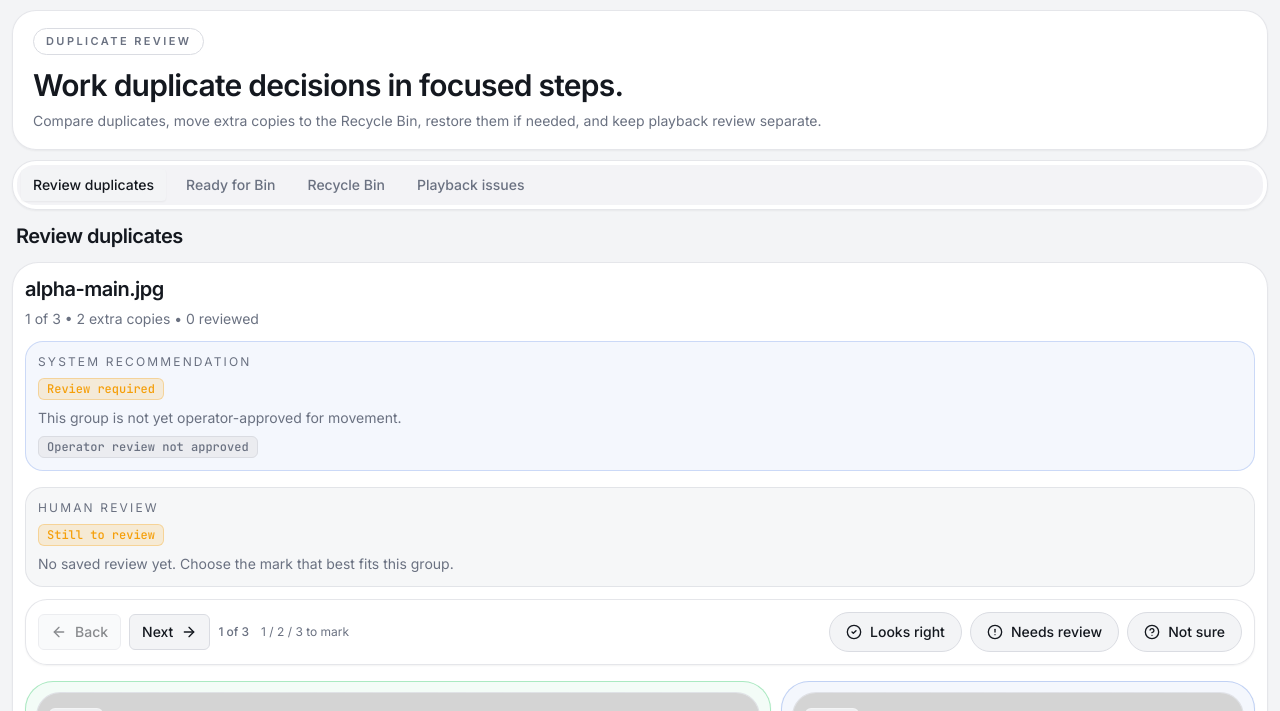
it: DuplicatesPage › marks a group and auto-advances to the next one on the review tab
Expected: the text "alpha-main.jpg" is shown, [25, 276, 164, 300]
Click the button with aria-label "Mark as looks right".
click(895, 632)  # box [829, 612, 962, 652]
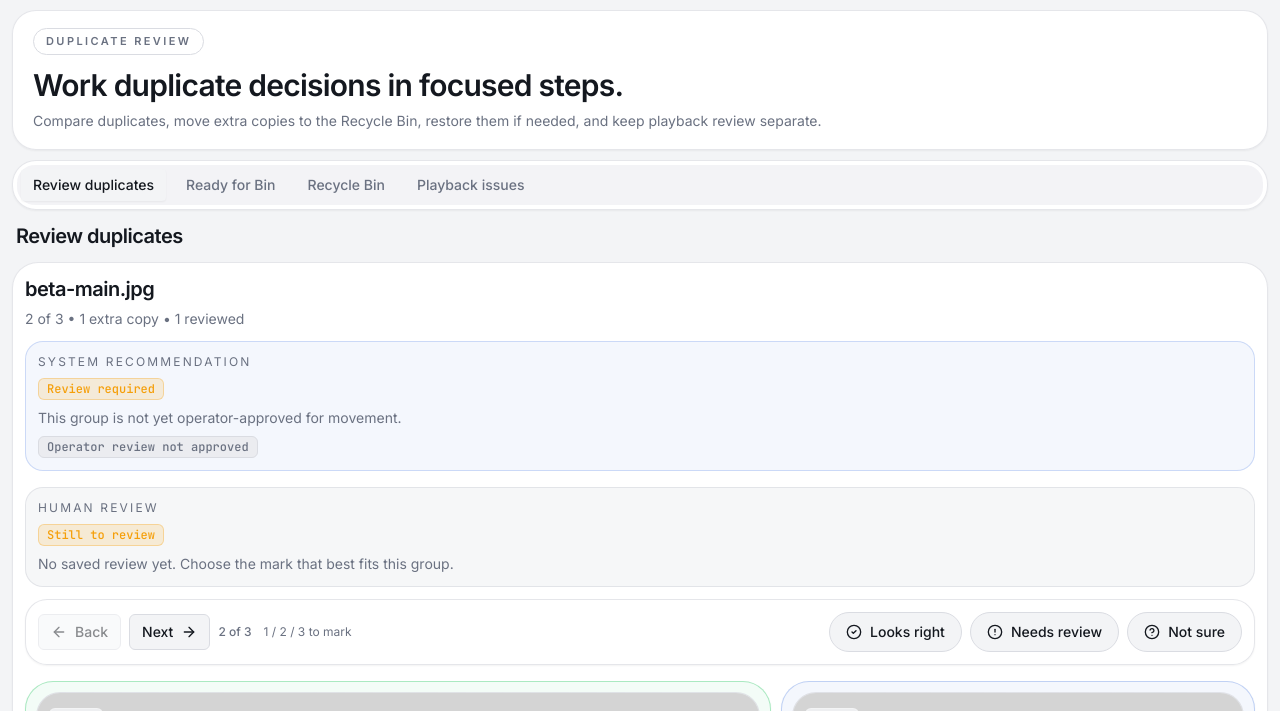
Expected: the text "2 of 3" is shown, [218, 624, 252, 640]
